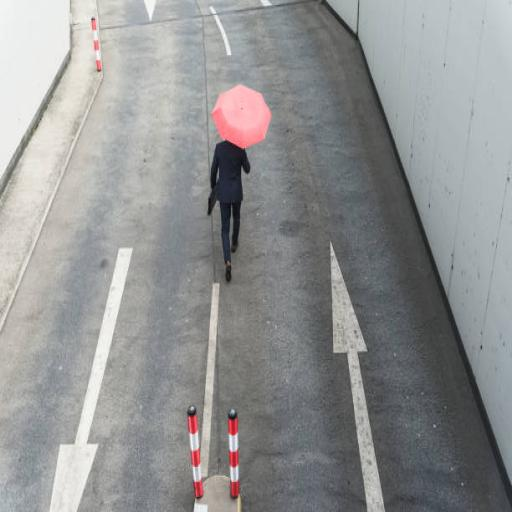guarda_chuva: (211, 83, 272, 149)
